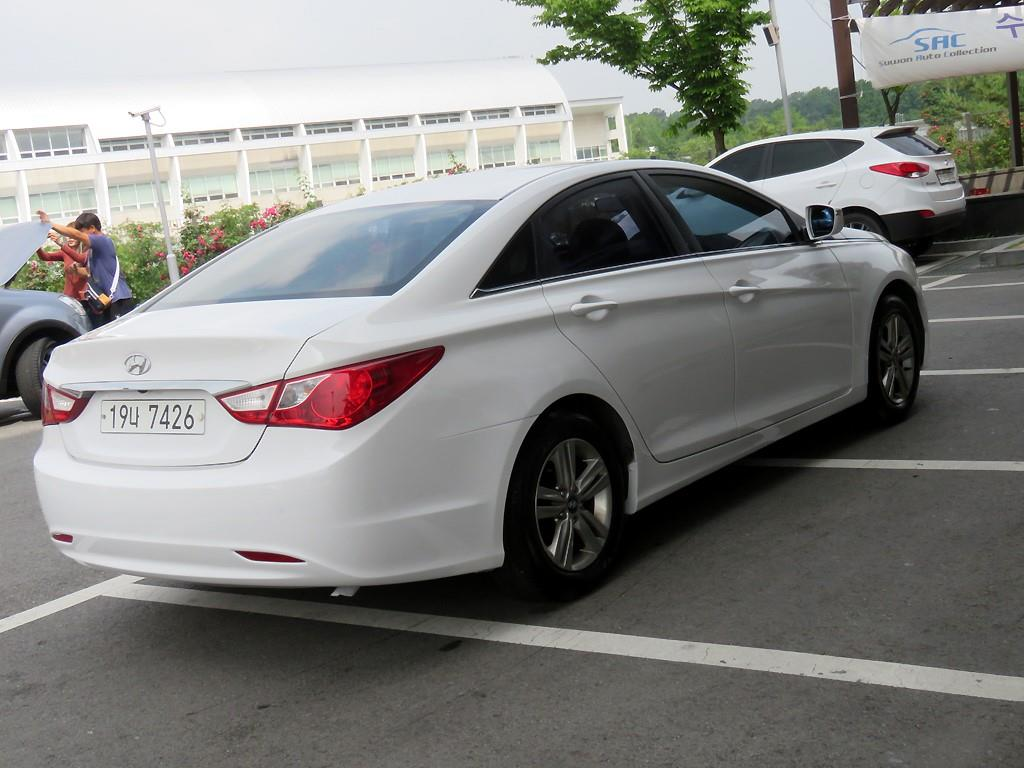plate: (99, 400, 205, 434)
